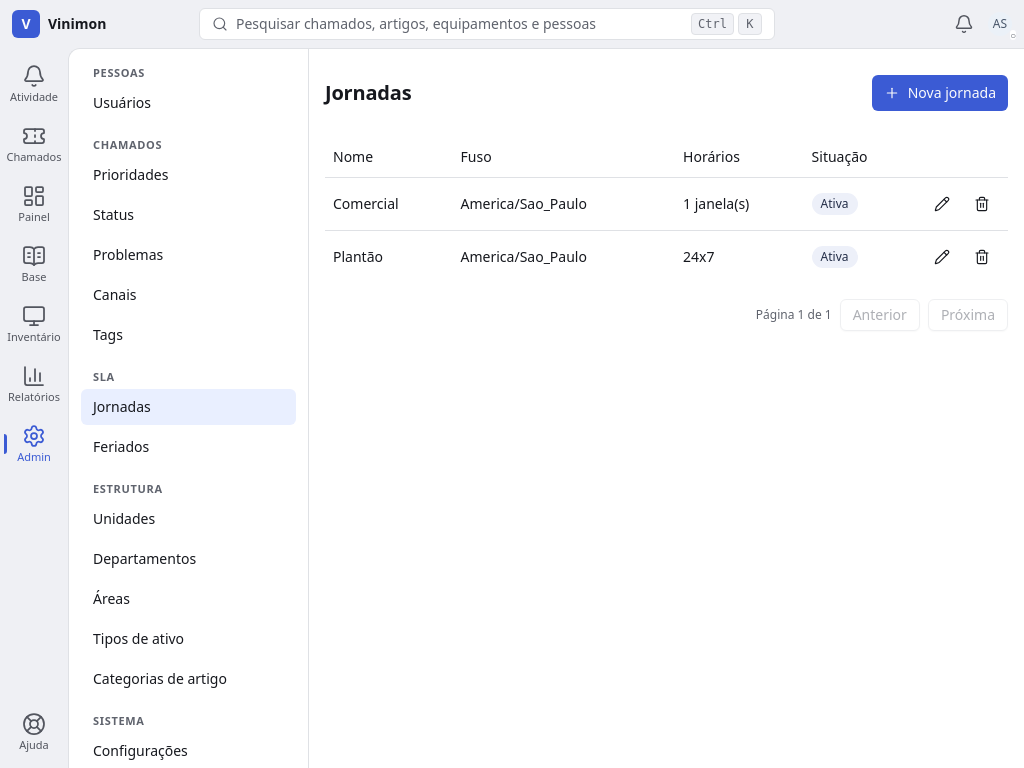
Test case: /admin/jornadas › (b) criar a jornada Comercial faz POST /jornadas com as janelas em minutos
Click the button "Nova jornada" at [940, 93], box [872,75,1008,111]
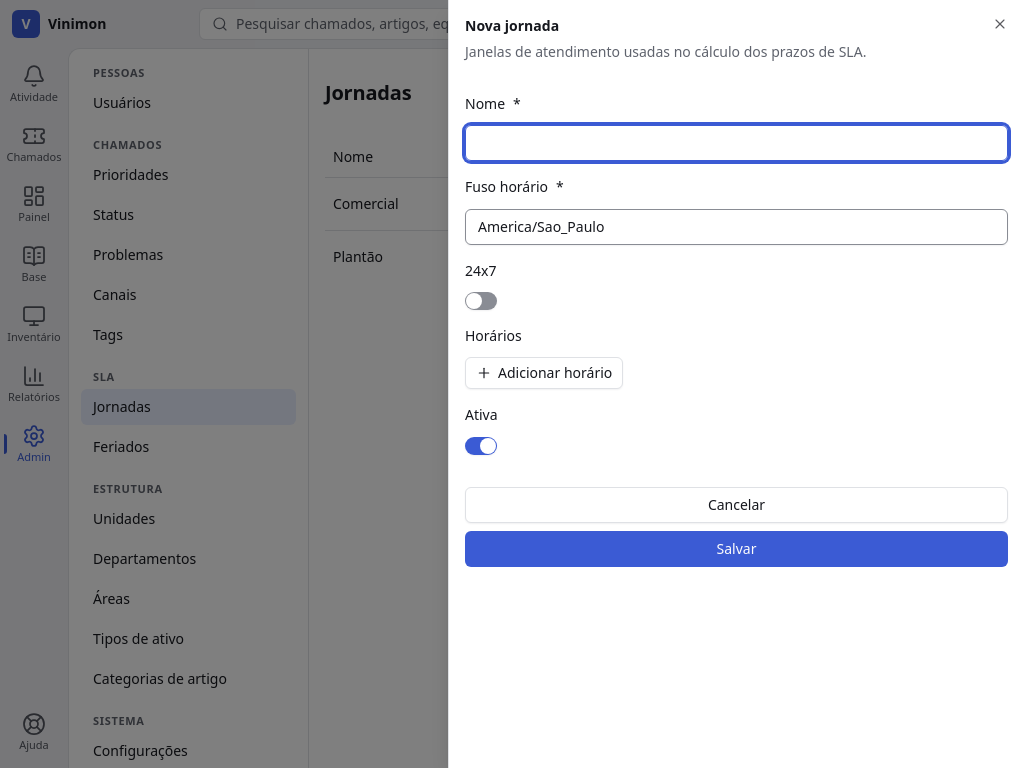
Type "Comercial" into the field labelled "Nome *" at [736, 143], box [465,125,1008,161]
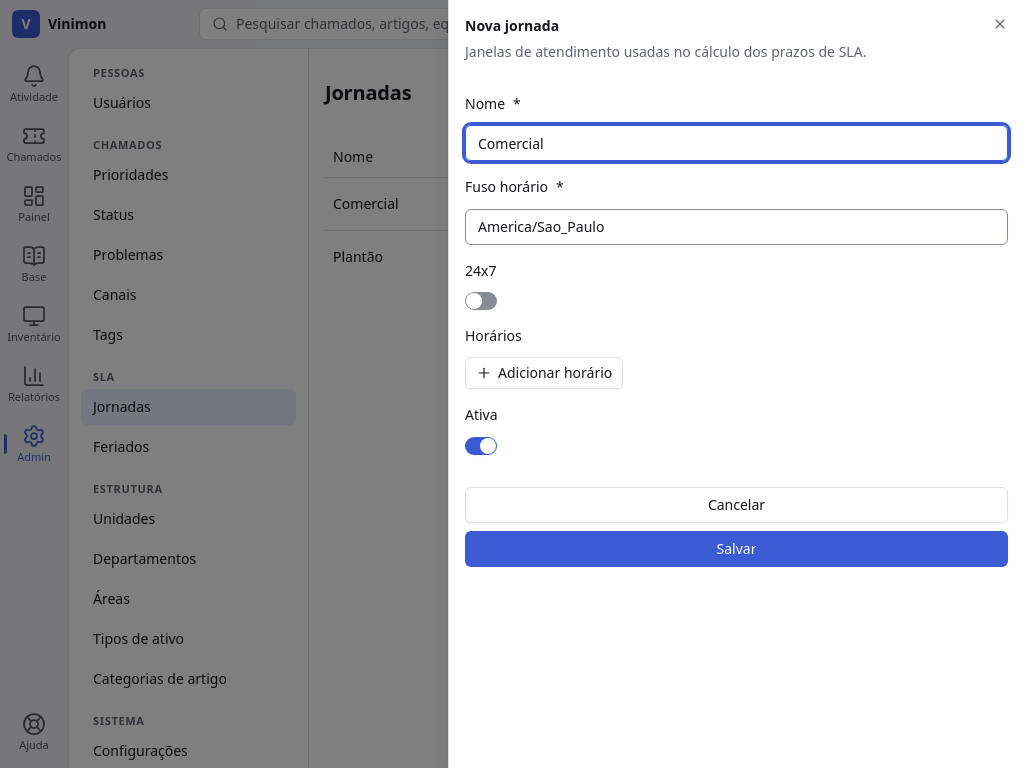
Click the button "Adicionar horário" at [544, 373], box [465,357,623,389]
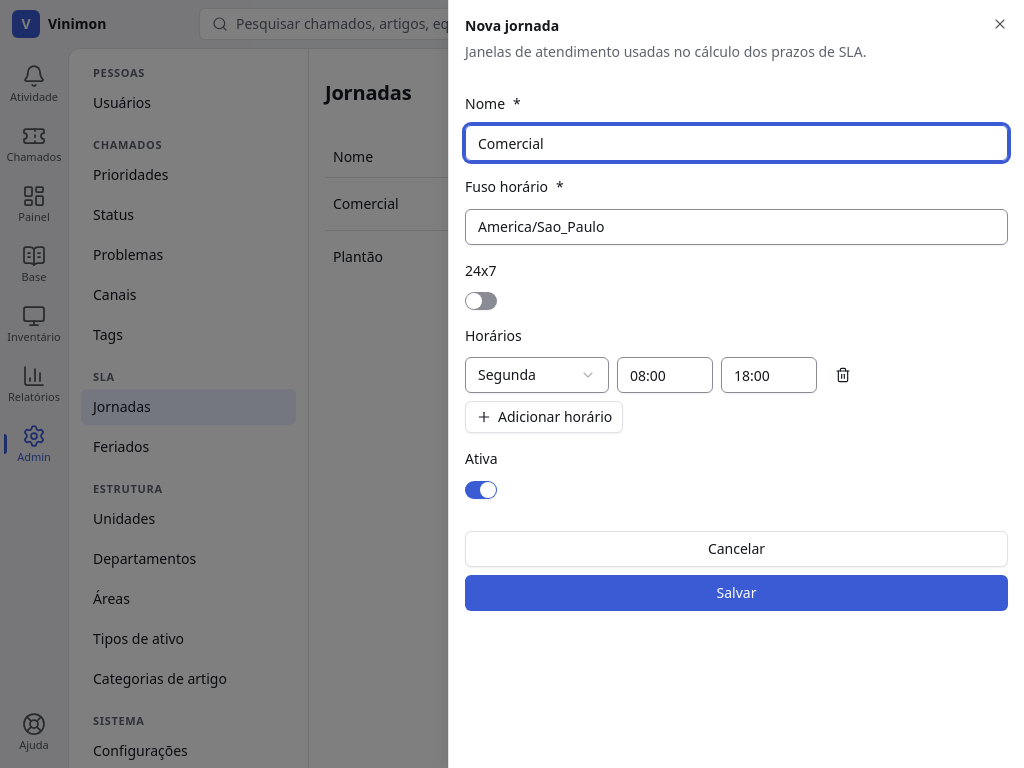
Replace the text in the field named "Início da janela 1" with "09:00" at [665, 375], box [617,357,713,393]
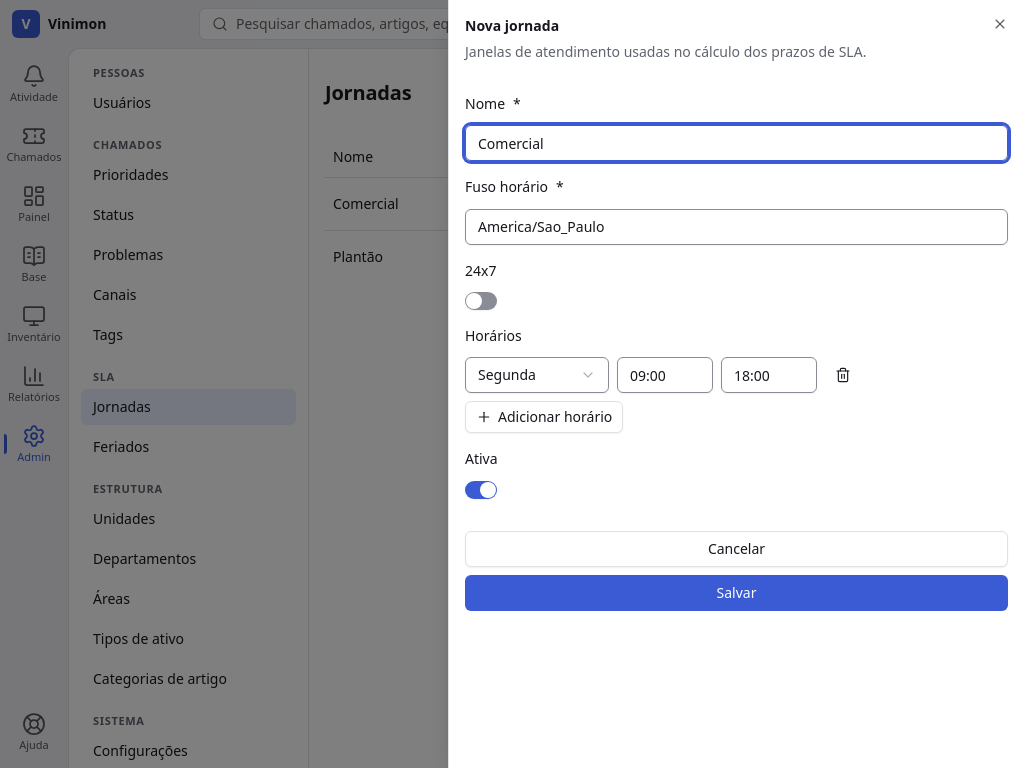
Replace the text in the field named "Fim da janela 1" with "17:30" at [769, 375], box [721,357,817,393]
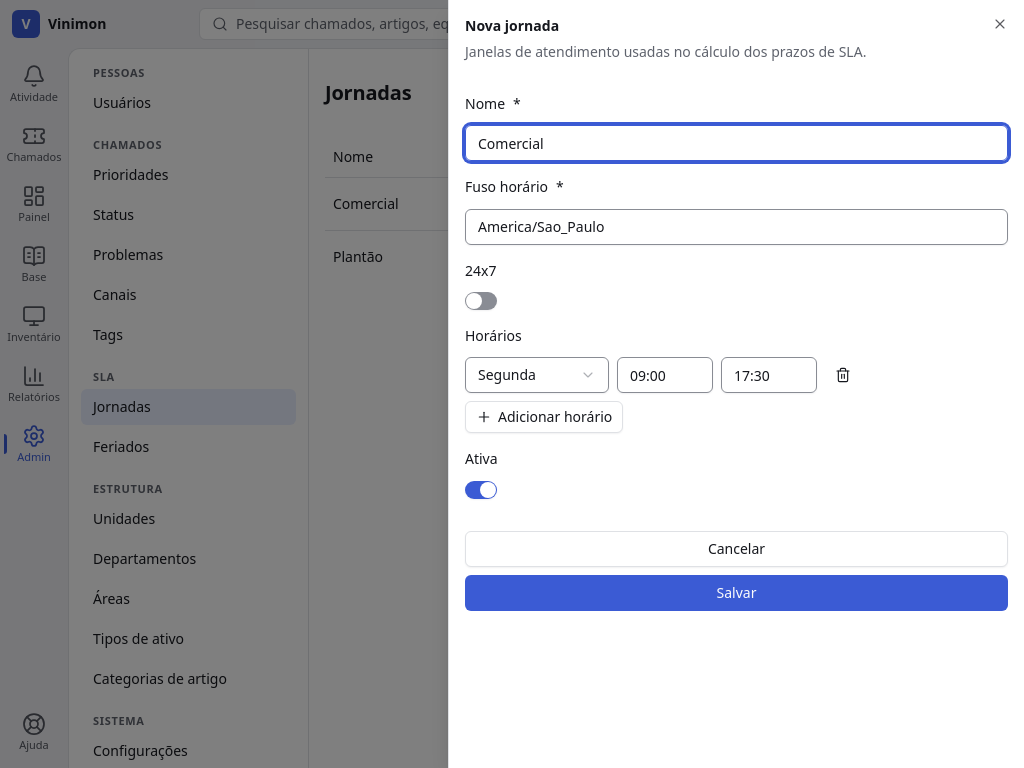
Click the button "Salvar" at [736, 593], box [465,575,1008,611]
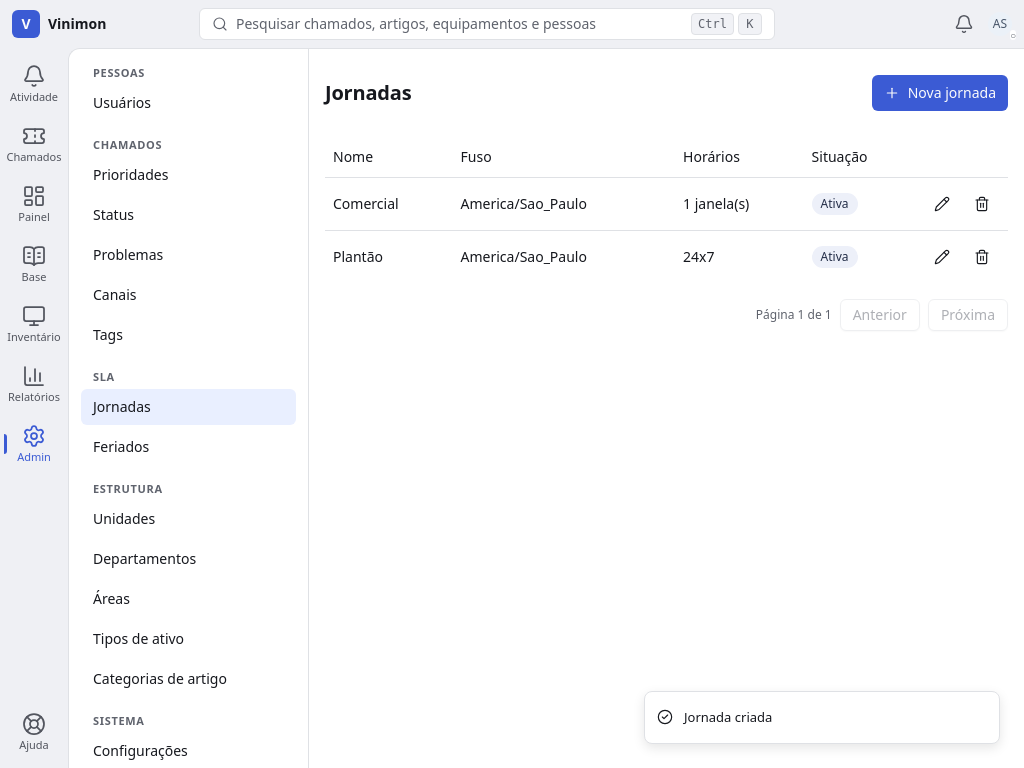
Check: the text "Jornada criada" is shown, box [684,708,772,727]
